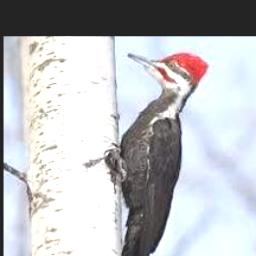Woodpecker: (109, 53, 209, 256)
